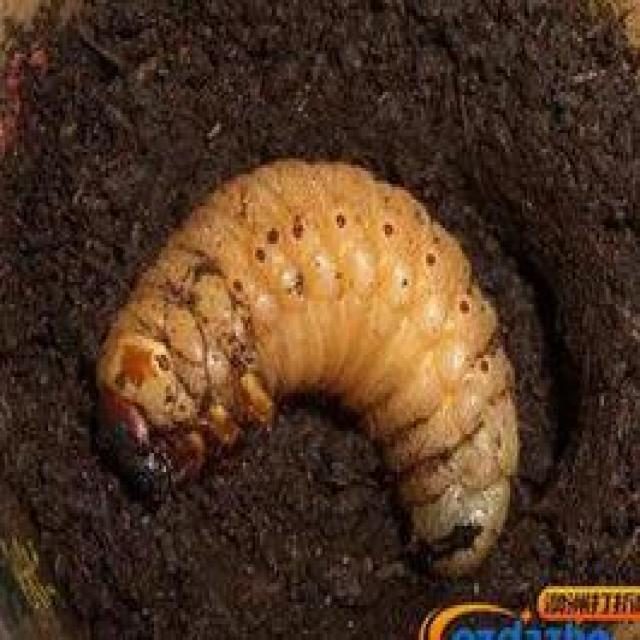Grub-Adult-: (92, 148, 537, 576)
